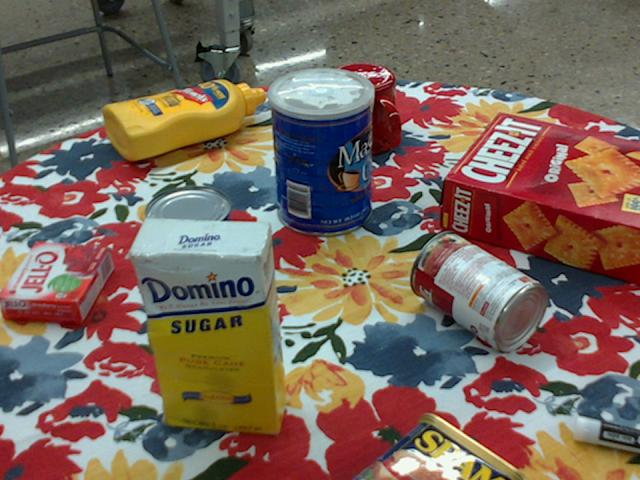cracker_box: (440, 112, 639, 286)
gelatin_box: (0, 244, 114, 326)
large_marker: (575, 414, 639, 452)
master_chef_can: (269, 68, 375, 237)
mug: (322, 63, 400, 156)
mustard_bottle: (101, 80, 264, 160)
potted_meat_can: (353, 412, 533, 479)
sugar_box: (126, 216, 288, 435)
tomato_soup_can: (411, 231, 550, 351)
tuna_fish_can: (143, 186, 231, 258)
